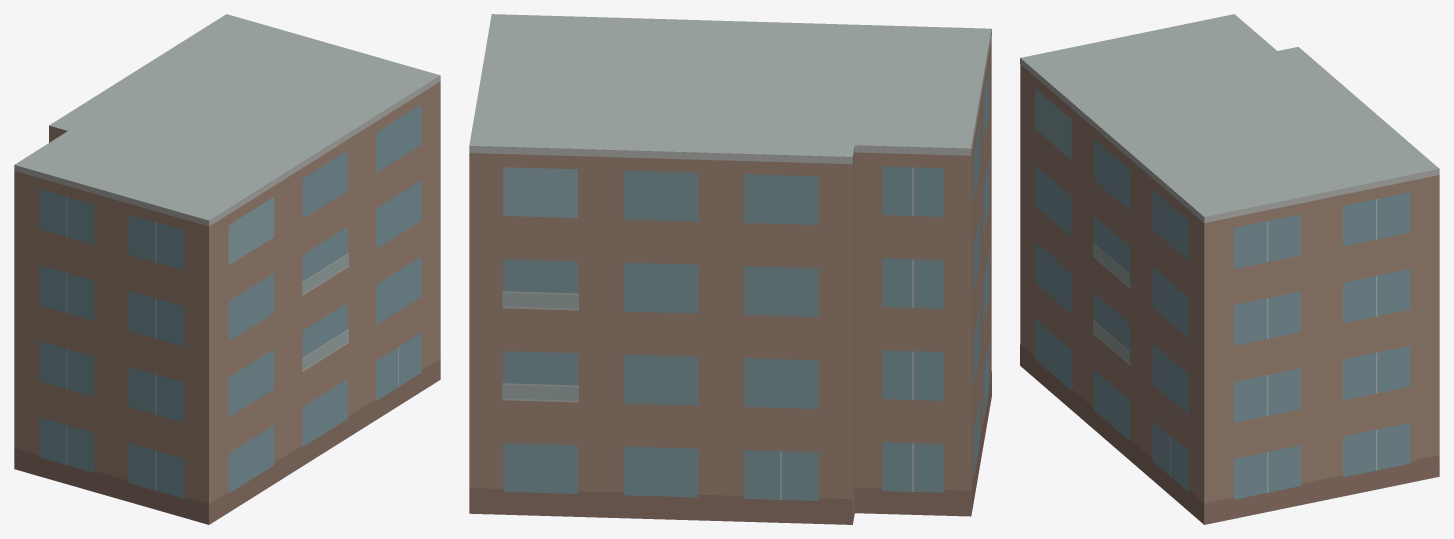
File: survey-upis-32836749.glb
3 renders of one model, left to right at view 1: azimuth 30°, elevation 25°; view 2: azimuth 150°, elevation 25°; view 3: azimuth 270°, elevation 25°, orthographic. The views are drawn at different scales.
Parts seen in each view (by area): view 1: survey-upis-32836749.tmp; view 2: survey-upis-32836749.tmp; view 3: survey-upis-32836749.tmp.
Part boxes in pixels (bbox=[...]): survey-upis-32836749.tmp: bbox=[14, 14, 440, 524]; survey-upis-32836749.tmp: bbox=[469, 14, 991, 524]; survey-upis-32836749.tmp: bbox=[1020, 14, 1439, 524].
Bounding box in the file's own units: 17.63 × 12.45 × 15.39.
